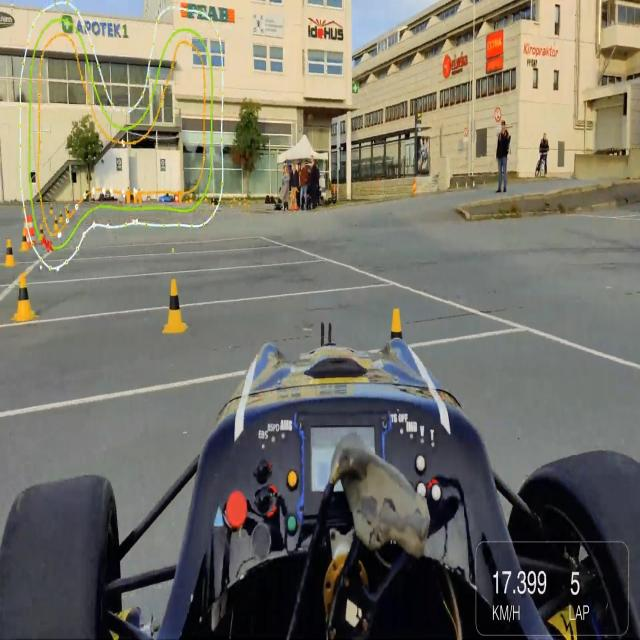yellow_cone: (383, 308, 413, 402), (163, 277, 187, 335), (13, 274, 35, 322), (5, 239, 16, 266), (20, 228, 30, 251)
